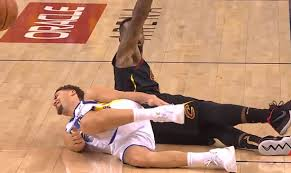down: (110, 1, 291, 151), (50, 83, 235, 170)
